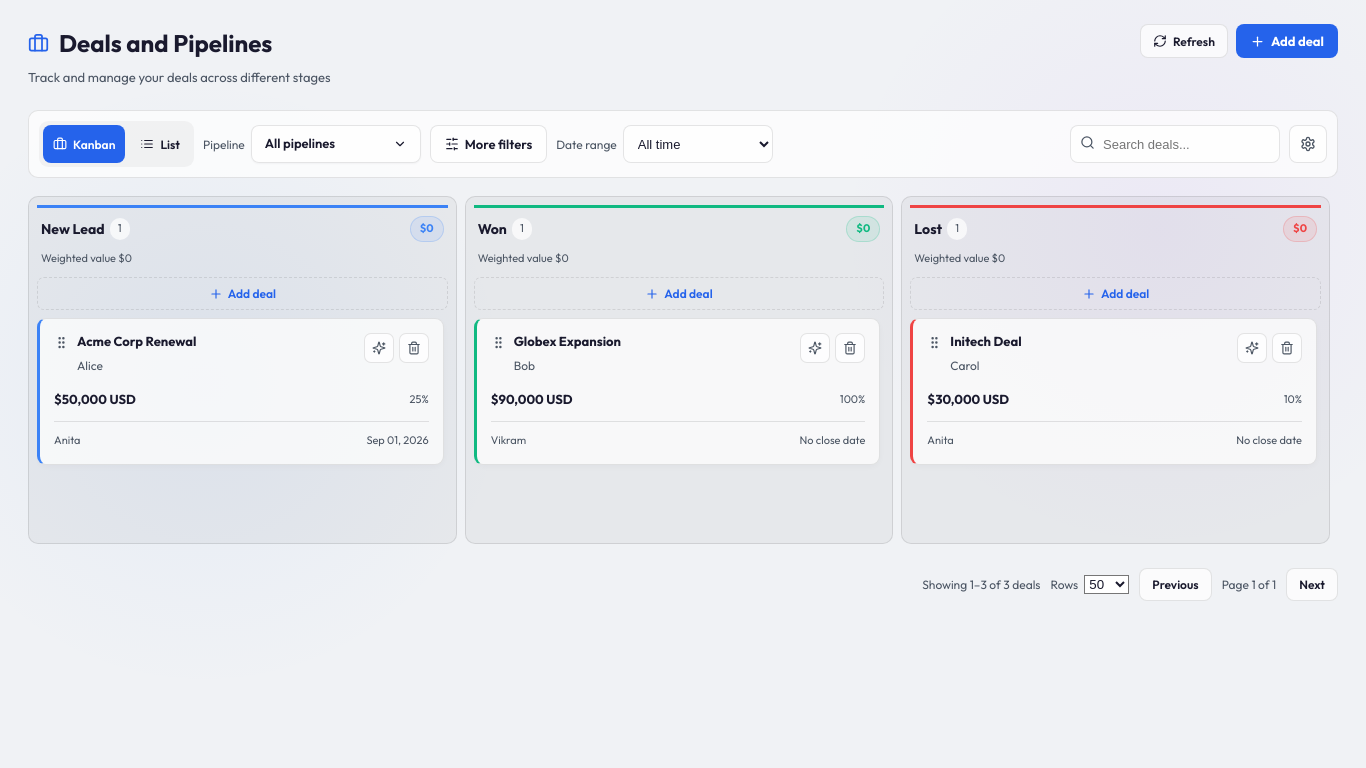
it: Deals and Pipelines page › ignores an older pipeline response that arrives after the latest selection
Expected: the heading "Acme Corp Renewal" is shown, 77,333 -> 196,349
Select "Older" in the dropdown labelled "Pipeline All pipelines" at (312, 144), box 203,125 -> 421,163
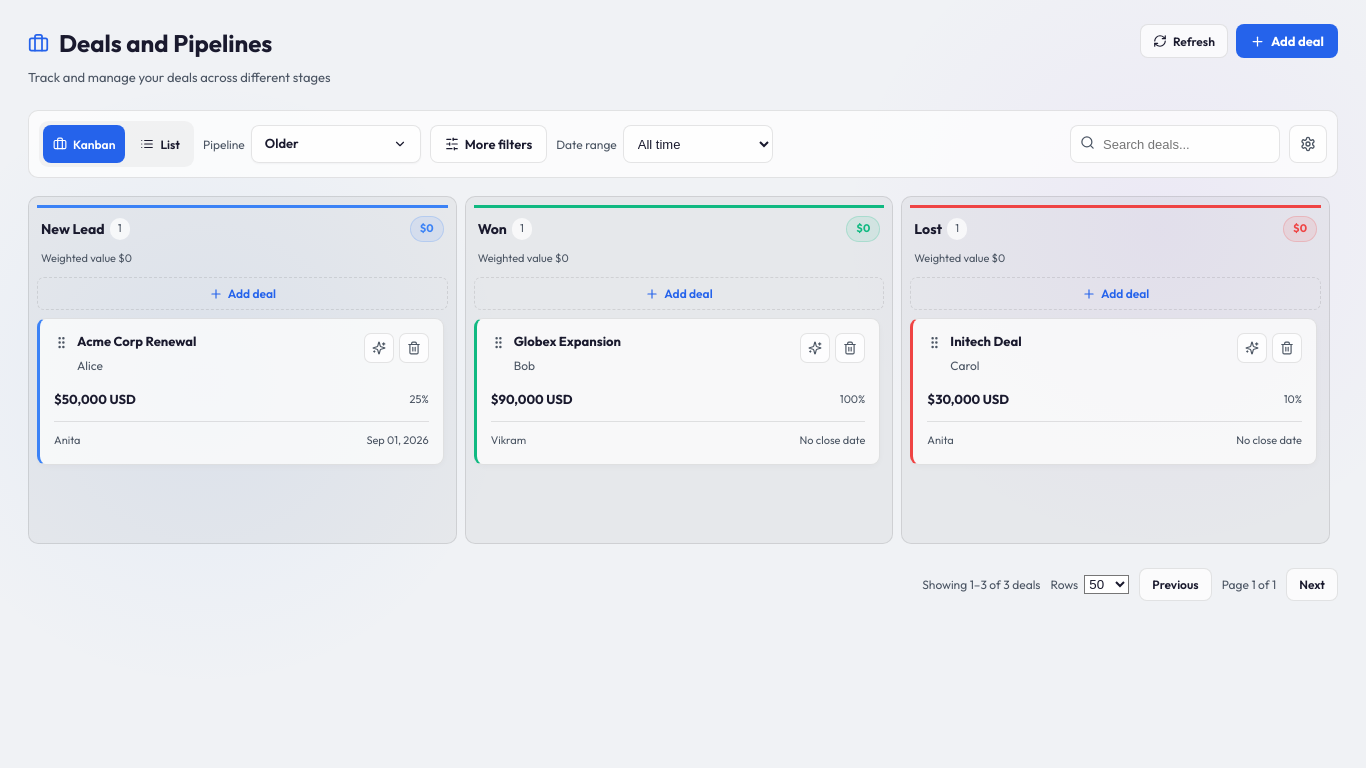
Select "Latest" in the dropdown labelled "Pipeline Older" at (312, 144), box 203,125 -> 421,163
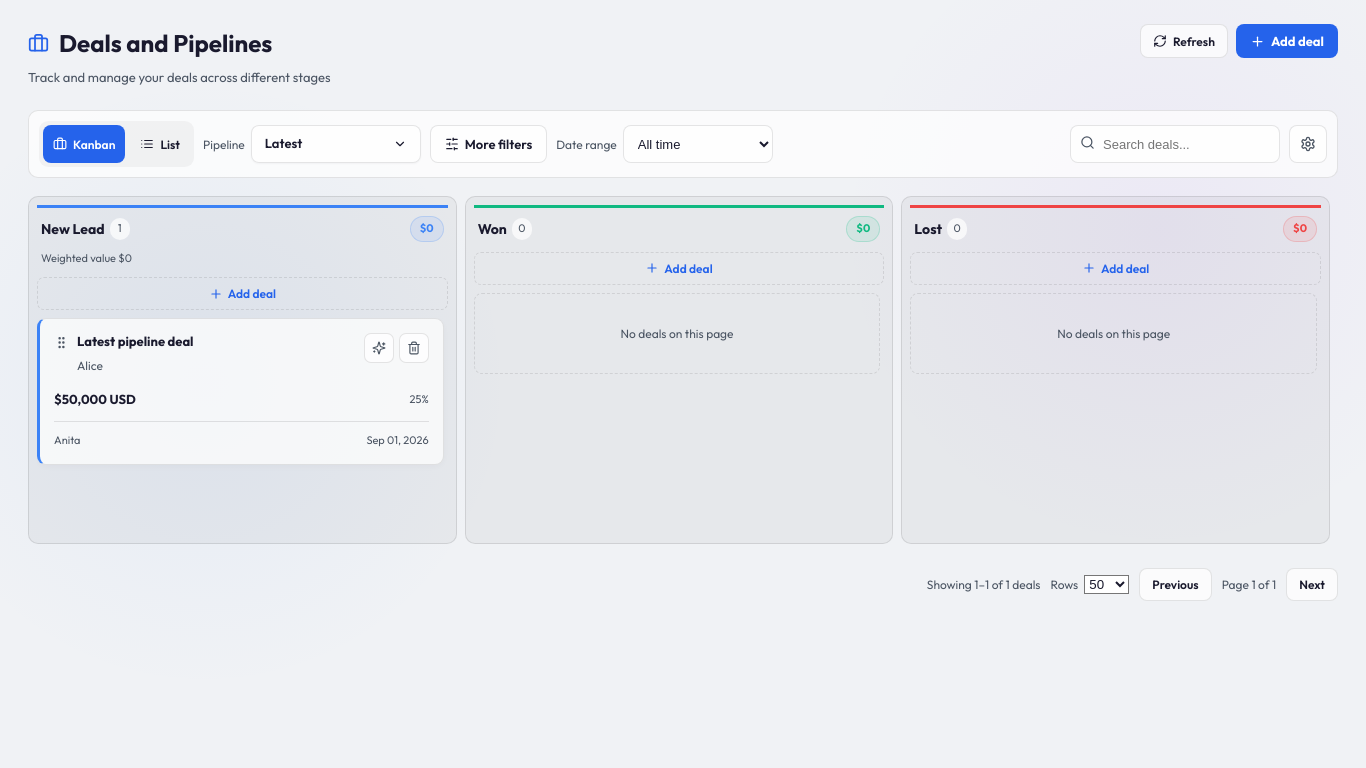
Result: the heading "Latest pipeline deal" is shown at 77,333 -> 194,349
